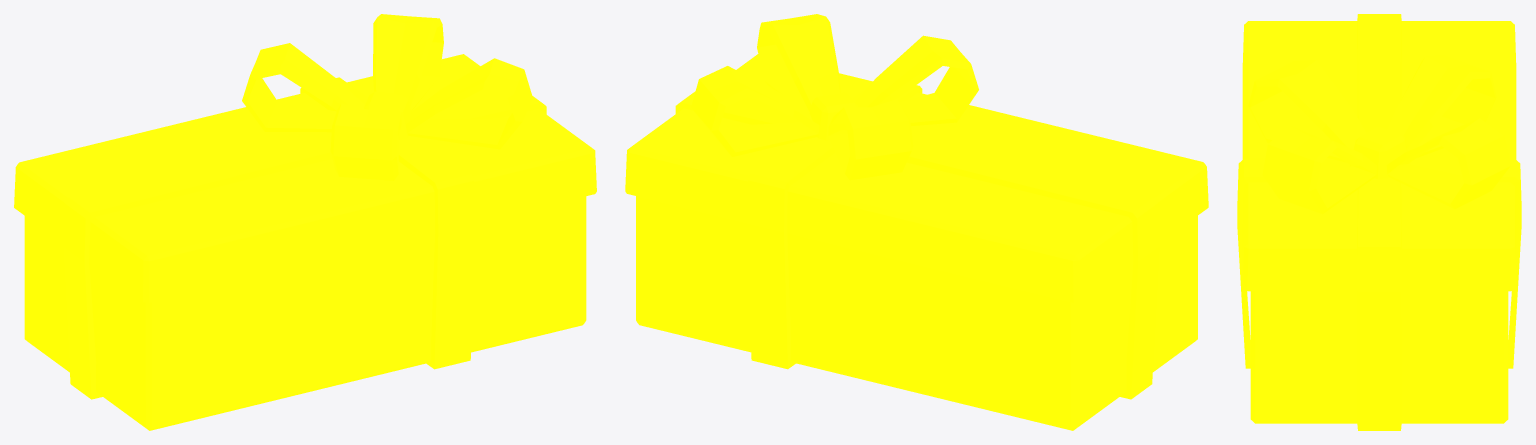
The model's file is gift-christmas-long-b.glb.
3 renders of one model, left to right at view 1: azimuth 30°, elevation 25°; view 2: azimuth 150°, elevation 25°; view 3: azimuth 270°, elevation 25°, orthographic. The views are drawn at different scales.
Parts seen in each view (by area): view 1: gift_christmas_long_b; view 2: gift_christmas_long_b; view 3: gift_christmas_long_b.
Boxes of the visible parts, box(x1,y1,x2,y2) form: gift_christmas_long_b: box(14, 14, 596, 430); gift_christmas_long_b: box(625, 14, 1208, 430); gift_christmas_long_b: box(1237, 14, 1521, 430).
Size of the model in its own units: 0.6387 by 0.3385 by 0.3314.
Materials: 1 (1 with a texture image).
